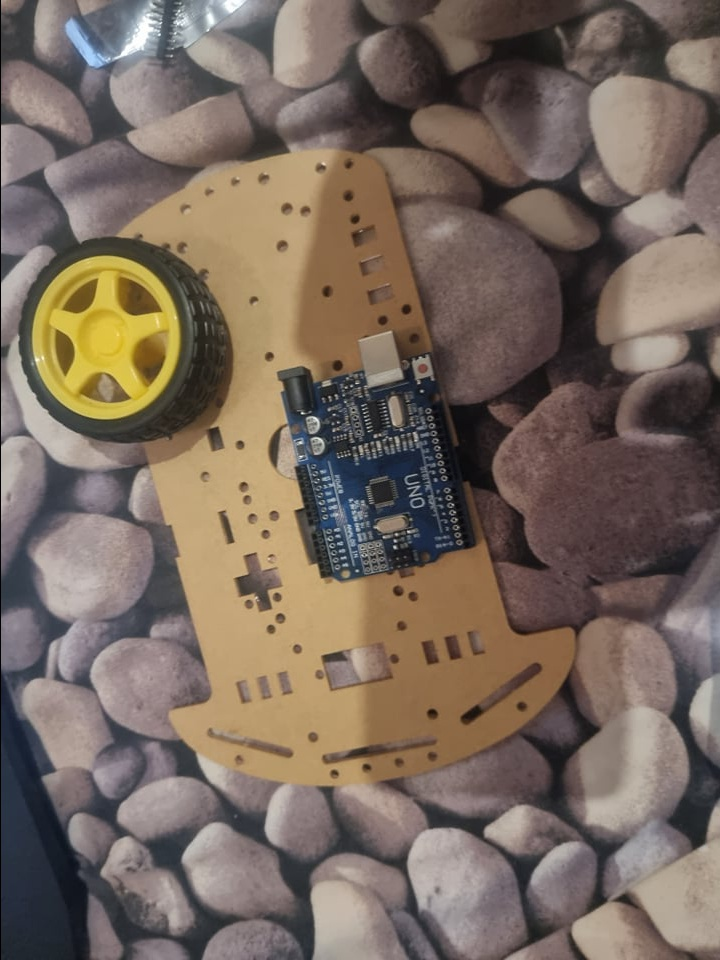UNO R3: (275, 328, 474, 583)
